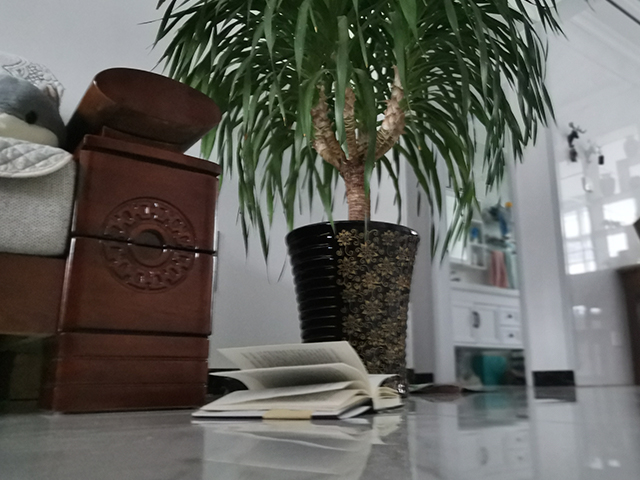book: (189, 338, 405, 423)
cabinet: (408, 125, 532, 391)
sofa: (1, 49, 224, 416)
